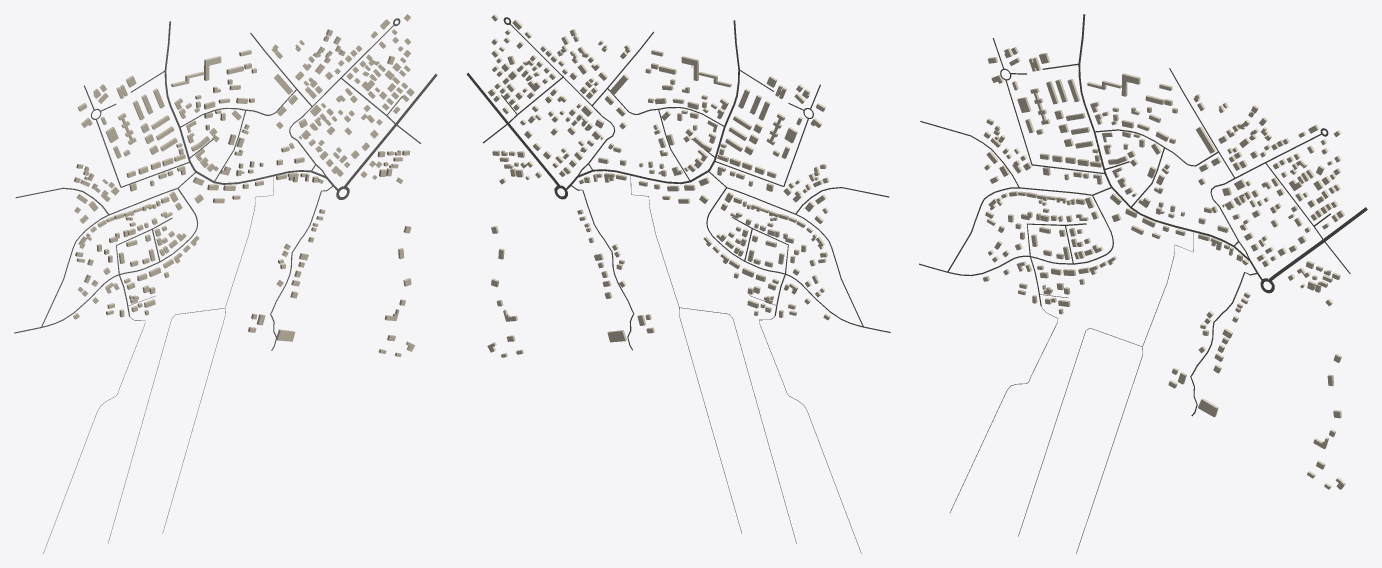
Rendered from historic-palestine-08_30_3496_3246.glb.
3 renders of one model, left to right at view 1: azimuth 30°, elevation 25°; view 2: azimuth 150°, elevation 25°; view 3: azimuth 330°, elevation 25°, orthographic. The views are drawn at different scales.
Parts seen in each view (by area): view 1: Road עציון; view 2: Road עציון; view 3: Road עציון.
Part boxes in pixels (box(x1,y1,x2,y2)): Road עציון: box(164, 21, 337, 190); Road עציון: box(565, 20, 739, 190); Road עציון: box(1078, 14, 1262, 280).
Bounding box in the file's own units: 1203 × 1388 × 8.7.
